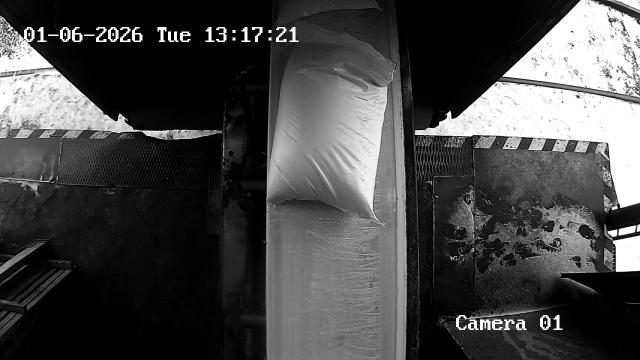bag: (269, 22, 397, 225), (278, 0, 382, 22)
